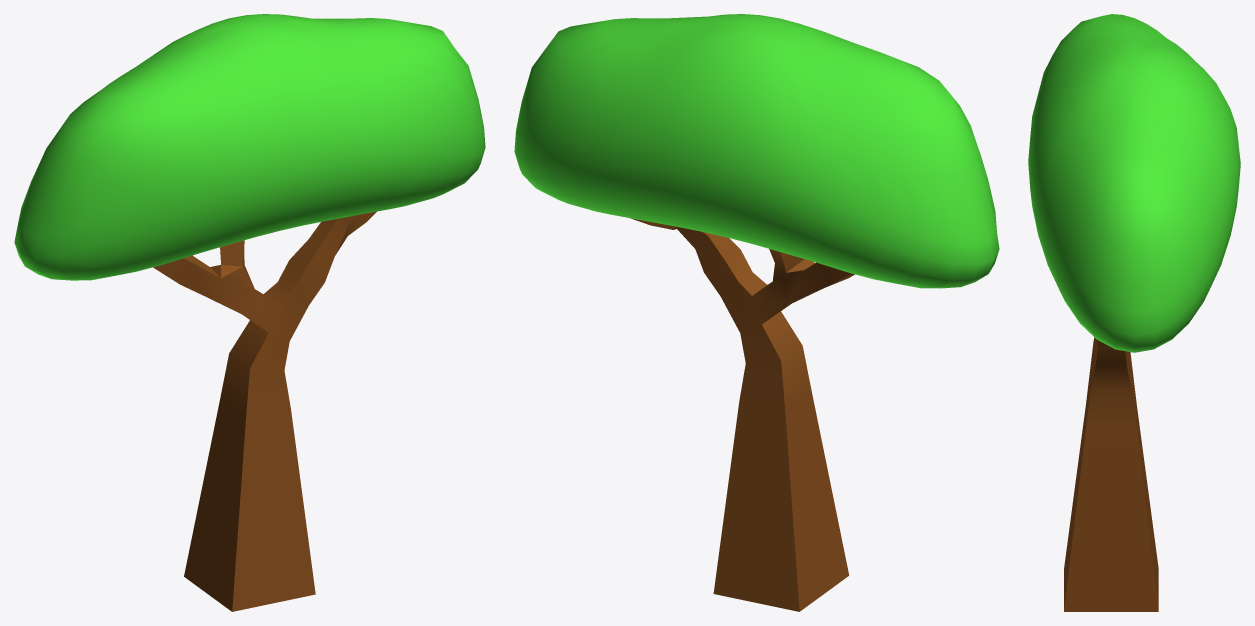
File: Tree.fbx
3 renders of one model, left to right at view 1: azimuth 30°, elevation 25°; view 2: azimuth 150°, elevation 25°; view 3: azimuth 270°, elevation 25°, orthographic. The views are drawn at different scales.
Parts seen in each view (by area): view 1: Sphere, Plane; view 2: Sphere, Plane; view 3: Sphere, Plane.
Part boxes in pixels (<box>): Sphere: <box>14,14,485,280</box>; Plane: <box>153,211,376,611</box>; Sphere: <box>514,14,999,288</box>; Plane: <box>631,218,854,611</box>; Sphere: <box>1028,14,1240,352</box>; Plane: <box>1064,337,1158,611</box>.
Bounding box in the file's own units: 637 × 732 × 261.
